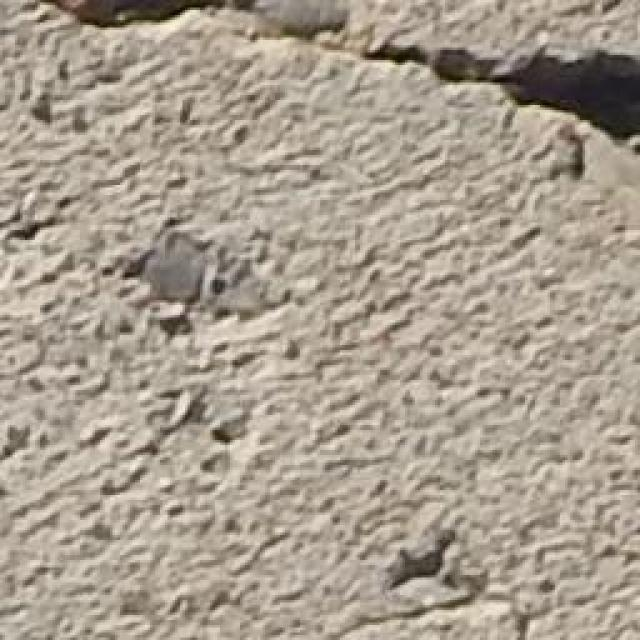concrete-crack: (355, 38, 640, 169), (327, 519, 505, 640), (38, 0, 252, 35)
